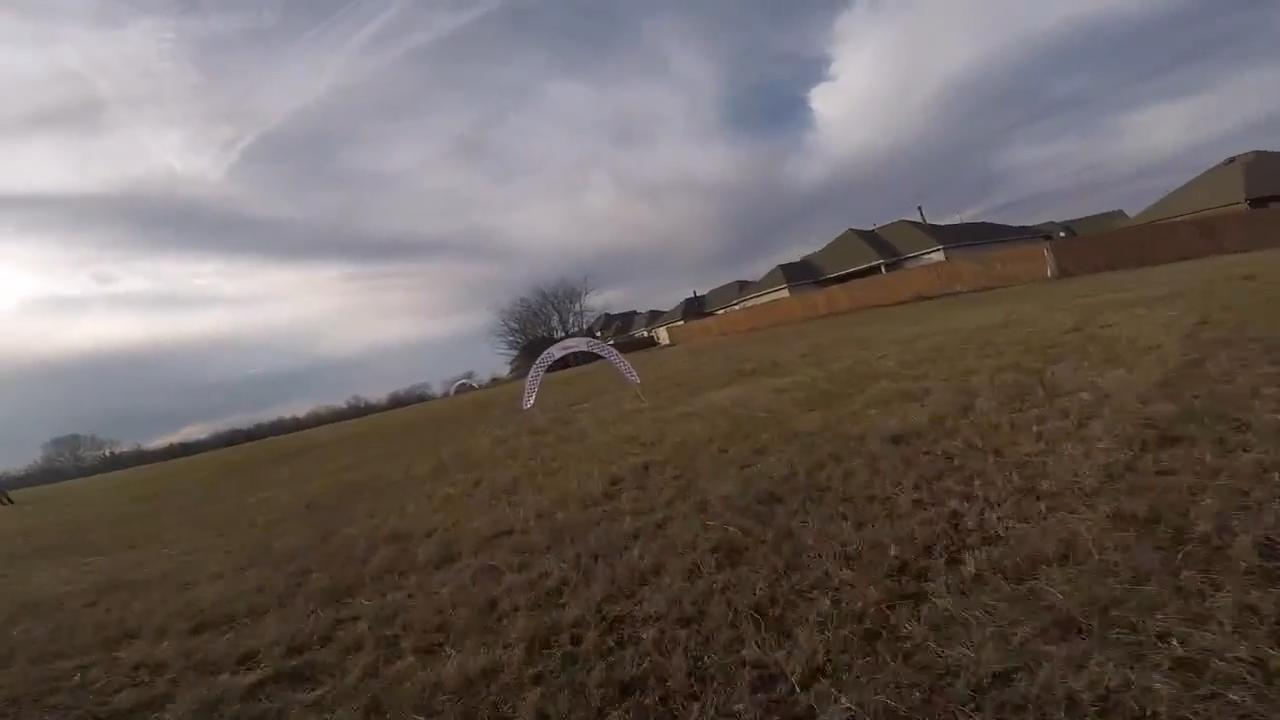gate: (521, 335, 641, 415)
